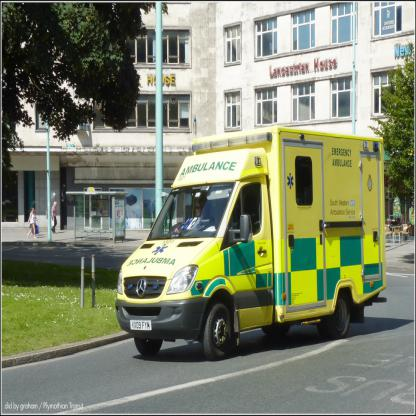Ambulance: (114, 122, 387, 362)
